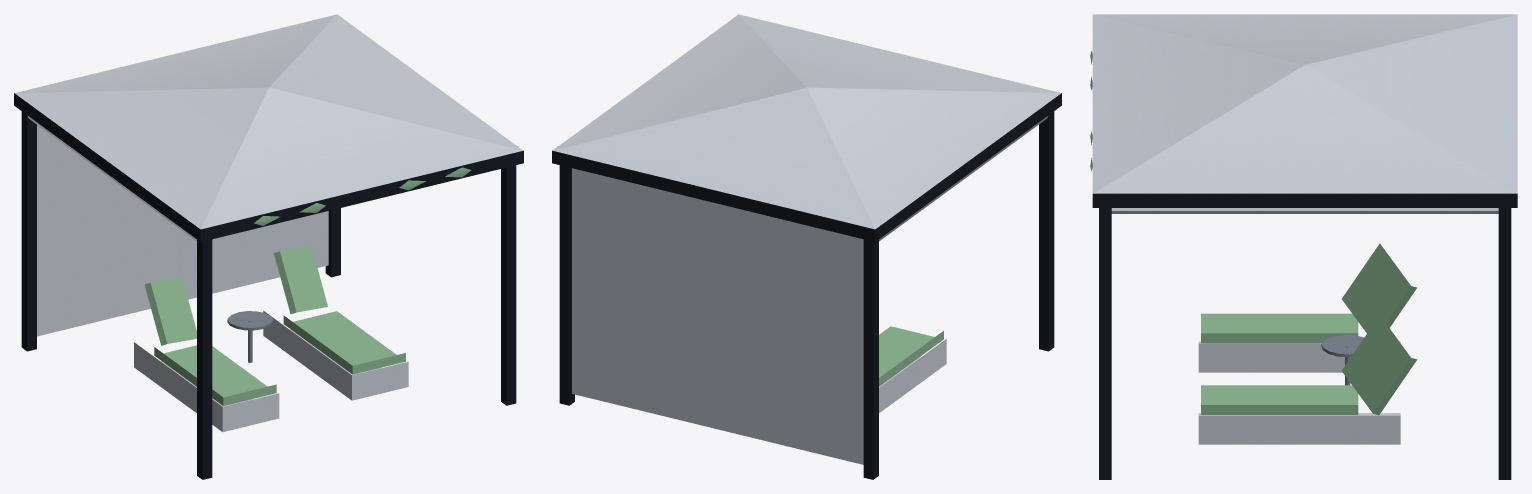
The picture shows the model from 3 angles, left to right: view 1: azimuth 30°, elevation 25°; view 2: azimuth 150°, elevation 25°; view 3: azimuth 270°, elevation 25°; orthographic projection. The views are drawn at different scales.
Visible parts, largest first — view 1: Fabric_Roof, Fabric_Back_Drop, Posts, Cushions, Lounger_Frame, Eave_Beams, Side_Table, Leaf_Crests; view 2: Fabric_Back_Drop, Fabric_Roof, Posts, Eave_Beams, Cushions, Lounger_Frame; view 3: Fabric_Roof, Cushions, Lounger_Frame, Posts, Eave_Beams, Fabric_Rolls, Side_Table.
Part boxes in pixels (x1,y1,x2,y2): Fabric_Roof: (14, 14, 522, 229); Fabric_Back_Drop: (37, 125, 328, 336); Posts: (21, 111, 516, 479); Cushions: (144, 245, 405, 405); Lounger_Frame: (134, 310, 408, 431); Eave_Beams: (14, 93, 523, 241); Side_Table: (227, 311, 273, 362); Leaf_Crests: (254, 167, 471, 225); Fabric_Back_Drop: (572, 168, 863, 464); Fabric_Roof: (553, 14, 1061, 229); Posts: (559, 111, 1054, 479); Eave_Beams: (552, 93, 1061, 241); Cushions: (879, 326, 943, 386); Lounger_Frame: (879, 339, 946, 412); Fabric_Roof: (1092, 14, 1517, 193); Cushions: (1201, 243, 1417, 415); Lounger_Frame: (1198, 341, 1400, 444); Posts: (1099, 208, 1511, 479); Eave_Beams: (1092, 193, 1517, 207); Fabric_Rolls: (1111, 208, 1498, 213); Side_Table: (1321, 335, 1363, 385).
Size of what is drawn, in the model's own units: 4 by 3.4 by 4.02.
4 materials, 3 textured.
